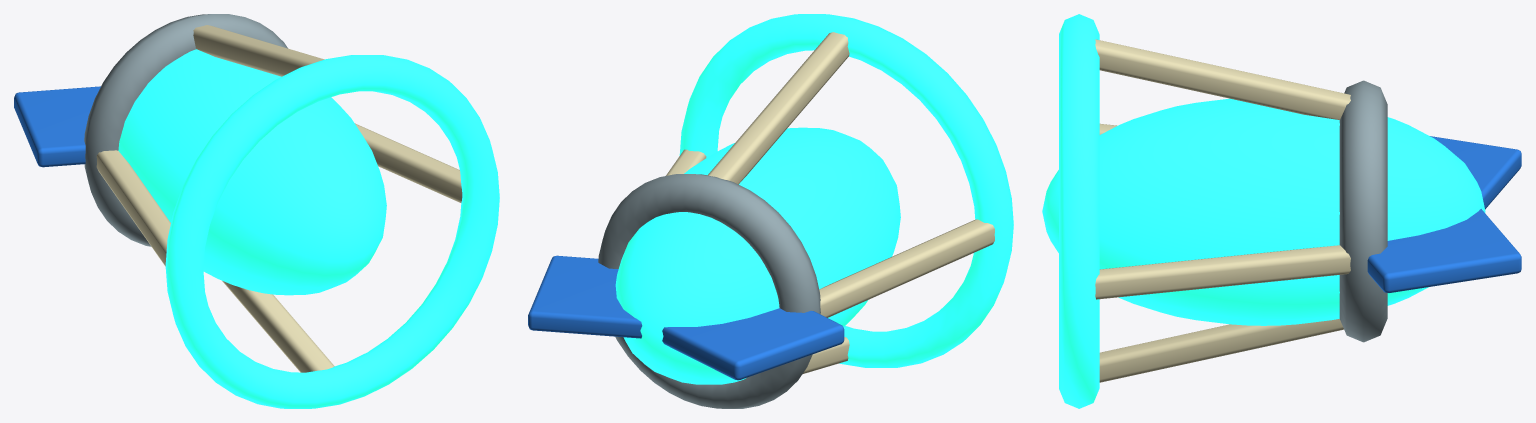
The model's file is Poseidon_Special.fbx.
The picture shows the model from 3 angles, left to right: view 1: azimuth 30°, elevation 25°; view 2: azimuth 150°, elevation 25°; view 3: azimuth 270°, elevation 25°; orthographic projection. The views are drawn at different scales.
Visible parts, largest first — view 1: Water capsule.001, Binding ring, Pressure collar.001, Tail fin.002, Binding prong.003, Binding prong.002, Binding prong, Binding prong.001; view 2: Water capsule.001, Binding ring, Pressure collar.001, Tail fin.002, Tail fin.003, Binding prong.003, Binding prong, Binding prong.002, Binding prong.001; view 3: Water capsule.001, Binding ring, Pressure collar.001, Tail fin.003, Binding prong.001, Binding prong, Binding prong.002, Tail fin.002.
Boxes of the visible parts, x1,y1,x2,y2 form: Water capsule.001: [118, 49, 386, 295]; Binding ring: [165, 55, 499, 408]; Pressure collar.001: [84, 14, 287, 246]; Tail fin.002: [14, 86, 100, 167]; Binding prong.003: [96, 150, 170, 266]; Binding prong.002: [222, 281, 334, 372]; Binding prong: [193, 25, 324, 76]; Binding prong.001: [355, 123, 462, 202]; Water capsule.001: [615, 127, 900, 384]; Binding ring: [679, 14, 1013, 367]; Pressure collar.001: [598, 174, 820, 408]; Tail fin.002: [662, 308, 844, 380]; Tail fin.003: [528, 255, 642, 338]; Binding prong.003: [819, 219, 994, 317]; Binding prong: [707, 32, 849, 184]; Binding prong.002: [803, 337, 849, 373]; Binding prong.001: [666, 149, 706, 175]; Water capsule.001: [1042, 98, 1485, 325]; Binding ring: [1059, 14, 1099, 408]; Pressure collar.001: [1339, 80, 1387, 342]; Tail fin.003: [1367, 209, 1521, 292]; Binding prong.001: [1095, 245, 1350, 299]; Binding prong: [1095, 39, 1350, 119]; Binding prong.002: [1099, 319, 1343, 382]; Tail fin.002: [1430, 136, 1521, 209].
Size of the model in its own units: 107 by 107 by 130.
